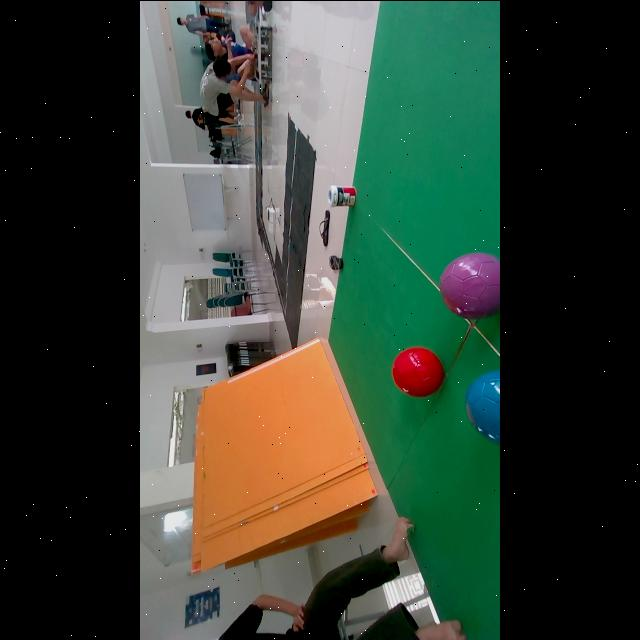B: (465, 369, 500, 444)
P: (440, 251, 500, 319)
R: (392, 346, 443, 396)
